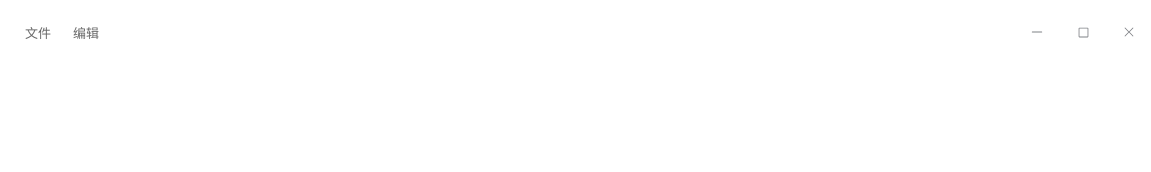
it: AppTitleBar › shows Windows accelerator labels without Electron aliases
What coordinates should you click on to do the following:
click the button "文件"
I would click on:
 (38, 32)
Its box is [14,19,62,45].
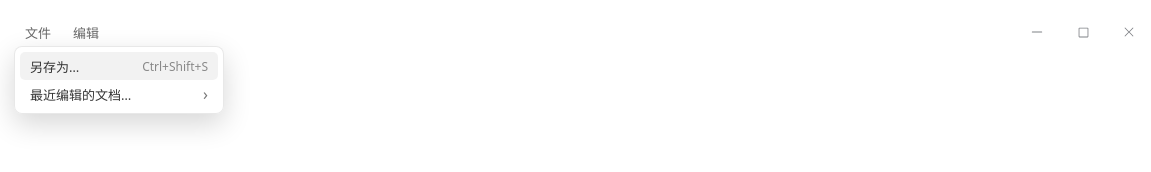
Expected: the menu named "文件菜单" does not show "CmdOr", [14,46,224,114]
Expected: the menu item named "另存为…Ctrl+Shift+S" is shown, [20,52,218,80]
